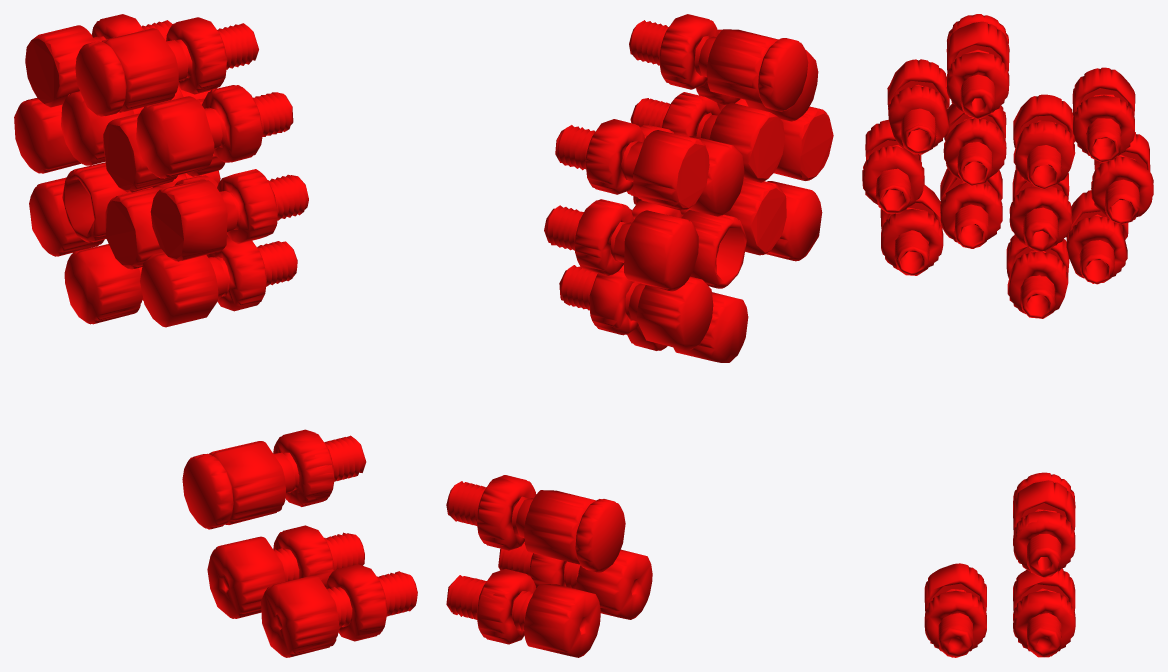
File: bluerov2_heavy_255_0_0_001_1.obj
3 renders of one model, left to right at view 1: azimuth 30°, elevation 25°; view 2: azimuth 150°, elevation 25°; view 3: azimuth 270°, elevation 25°, orthographic. The views are drawn at different scales.
Parts seen in each view (by area): view 1: BROV2-HEAVY-45.001_BROV2-HEAVY-45.002; view 2: BROV2-HEAVY-45.001_BROV2-HEAVY-45.002; view 3: BROV2-HEAVY-45.001_BROV2-HEAVY-45.002.
Boxes of the visible parts, box(x1,y1,x2,y2) form: BROV2-HEAVY-45.001_BROV2-HEAVY-45.002: box(14, 14, 417, 657); BROV2-HEAVY-45.001_BROV2-HEAVY-45.002: box(446, 14, 833, 657); BROV2-HEAVY-45.001_BROV2-HEAVY-45.002: box(862, 14, 1153, 657).
Bounding box in the file's own units: 3.34 × 6.7 × 3.31.
